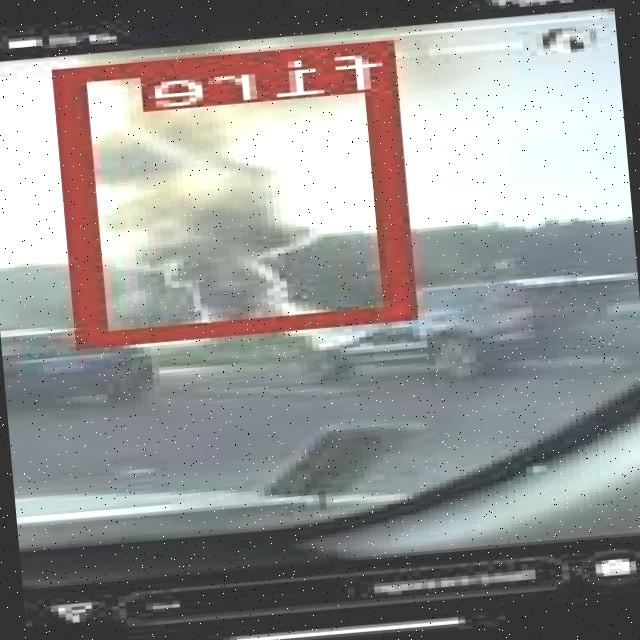fire: (64, 39, 423, 344)
